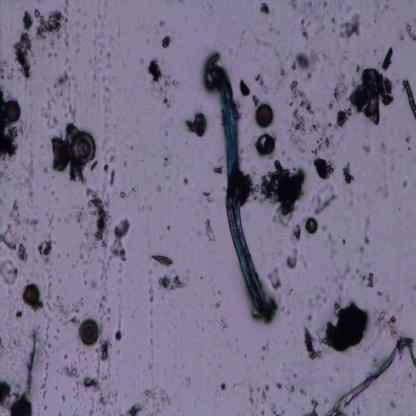Background material: (258, 157, 307, 224), (45, 66, 86, 133), (282, 74, 322, 138), (351, 66, 394, 124), (44, 14, 94, 63), (282, 119, 340, 160), (324, 300, 369, 351), (302, 264, 348, 310), (82, 188, 112, 246), (15, 328, 38, 399), (294, 0, 333, 38), (43, 288, 83, 325), (96, 258, 118, 325), (9, 148, 38, 198), (90, 44, 117, 93), (13, 27, 37, 81), (21, 9, 66, 37), (6, 201, 42, 236), (107, 218, 133, 262), (148, 74, 183, 106), (57, 348, 80, 394), (42, 202, 76, 232), (33, 354, 50, 414), (370, 306, 399, 339), (88, 390, 127, 414), (140, 387, 172, 416), (308, 186, 338, 216), (336, 11, 365, 41), (0, 235, 30, 262), (0, 121, 20, 160), (182, 112, 208, 142), (156, 270, 186, 296), (147, 268, 156, 354), (302, 325, 323, 361), (328, 73, 349, 109), (38, 259, 63, 289), (250, 36, 281, 60), (312, 151, 336, 181), (205, 278, 224, 311), (367, 0, 393, 23), (378, 144, 398, 172), (290, 53, 314, 76), (306, 44, 331, 66), (326, 228, 342, 262), (147, 59, 168, 84), (296, 396, 322, 416), (0, 260, 19, 287), (202, 219, 219, 247), (81, 372, 104, 392), (266, 266, 283, 293), (0, 59, 16, 87), (100, 93, 111, 133), (215, 38, 235, 59), (373, 180, 390, 204), (336, 107, 352, 132), (45, 317, 55, 357), (0, 162, 16, 186), (340, 163, 356, 186), (100, 142, 118, 162), (36, 239, 53, 260), (256, 74, 272, 96), (290, 224, 304, 249), (211, 316, 230, 334), (119, 184, 140, 200), (285, 248, 300, 270), (98, 337, 111, 362), (381, 47, 394, 72), (206, 159, 224, 177), (258, 383, 270, 410), (370, 288, 393, 302), (78, 248, 92, 271), (71, 166, 86, 186), (362, 217, 372, 247), (61, 0, 74, 23), (0, 378, 11, 405), (402, 23, 416, 44), (238, 78, 252, 98), (201, 191, 214, 212), (104, 165, 117, 185), (262, 338, 273, 360), (12, 303, 28, 318), (360, 273, 375, 289), (158, 35, 173, 50), (157, 156, 171, 172), (249, 92, 263, 107), (136, 201, 155, 212), (404, 132, 413, 155), (74, 203, 83, 226), (125, 403, 142, 415), (247, 378, 254, 406), (357, 142, 373, 154), (182, 371, 192, 389), (275, 64, 286, 80), (113, 327, 123, 343), (38, 163, 51, 175), (259, 3, 270, 17), (80, 271, 90, 285), (268, 404, 279, 416), (290, 0, 300, 13), (152, 180, 162, 193), (298, 387, 308, 399), (402, 176, 411, 188), (90, 277, 99, 289), (206, 8, 214, 21), (304, 312, 314, 322), (217, 381, 226, 392), (181, 177, 190, 187), (50, 188, 56, 202), (166, 224, 172, 236), (276, 383, 286, 390), (0, 330, 4, 347), (340, 237, 348, 245), (359, 243, 364, 255), (158, 19, 164, 29), (374, 48, 380, 56), (289, 386, 294, 395), (122, 158, 127, 167), (216, 389, 221, 397), (200, 272, 204, 282), (149, 363, 153, 371), (43, 185, 47, 192), (63, 396, 66, 404)
Cellulose filter fibre: (326, 338, 416, 414)
Cotton: (210, 67, 270, 315)
Diatom: (71, 132, 97, 166), (50, 136, 70, 174), (79, 319, 100, 346), (254, 104, 273, 129), (4, 98, 22, 123), (10, 398, 34, 416), (23, 282, 40, 307), (257, 134, 275, 153), (152, 253, 173, 267), (306, 216, 318, 235), (90, 160, 98, 172)
